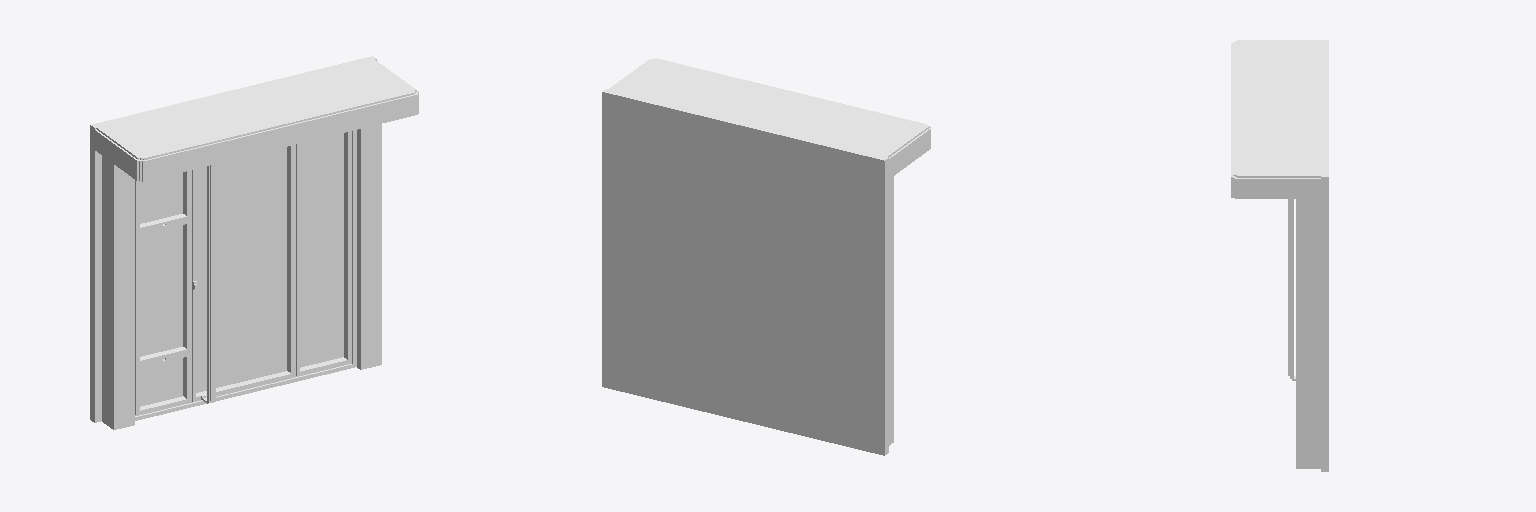
Rendered from entrance4-2-lod1.obj.
3 views of the same model, side by side, from view 1: azimuth 30°, elevation 25°; view 2: azimuth 150°, elevation 25°; view 3: azimuth 270°, elevation 25° (orthographic).
Parts seen in each view (by area): view 1: lod1; view 2: lod1; view 3: lod1.
Part boxes in pixels (x1,y1,x2,y2): lod1: (90, 56, 418, 429); lod1: (602, 58, 930, 455); lod1: (1231, 40, 1328, 471).
Bounding box in the file's own units: 16 × 16 × 4.8.